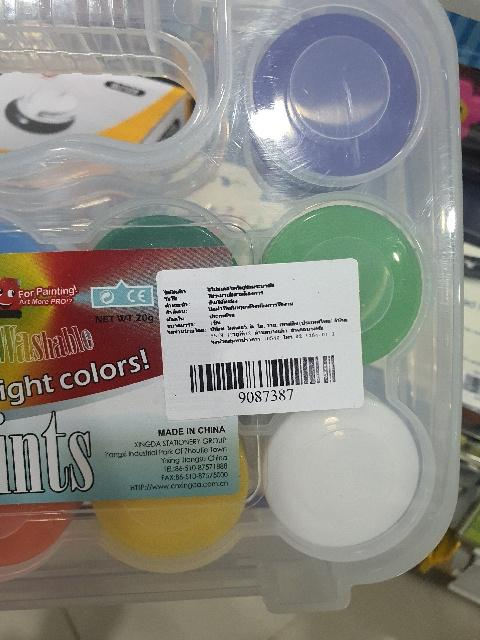Barcode: (175, 348, 352, 405)
